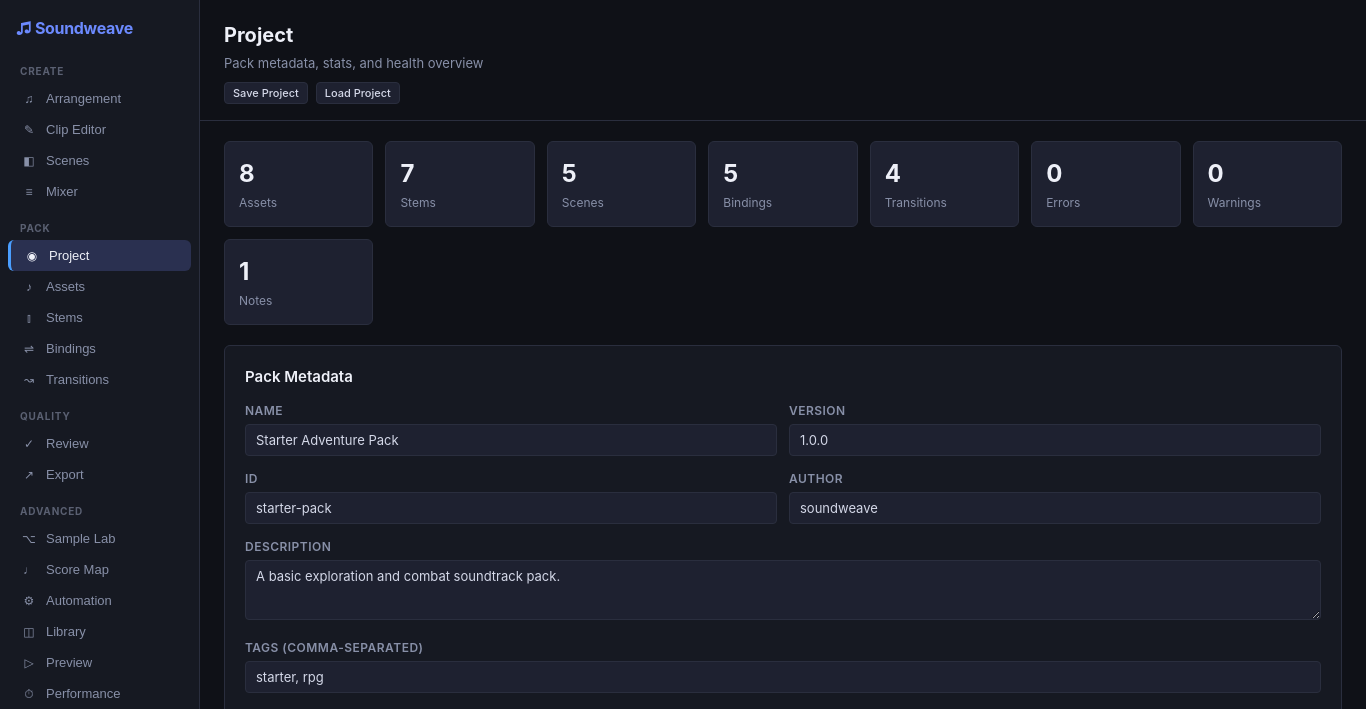
Test: Studio — navigation › switches to stems screen
The width and height of the screenshot is (1366, 709).
Step 1. Click the button "⫾ Stems" → [100, 318], box [8,302,191,333]
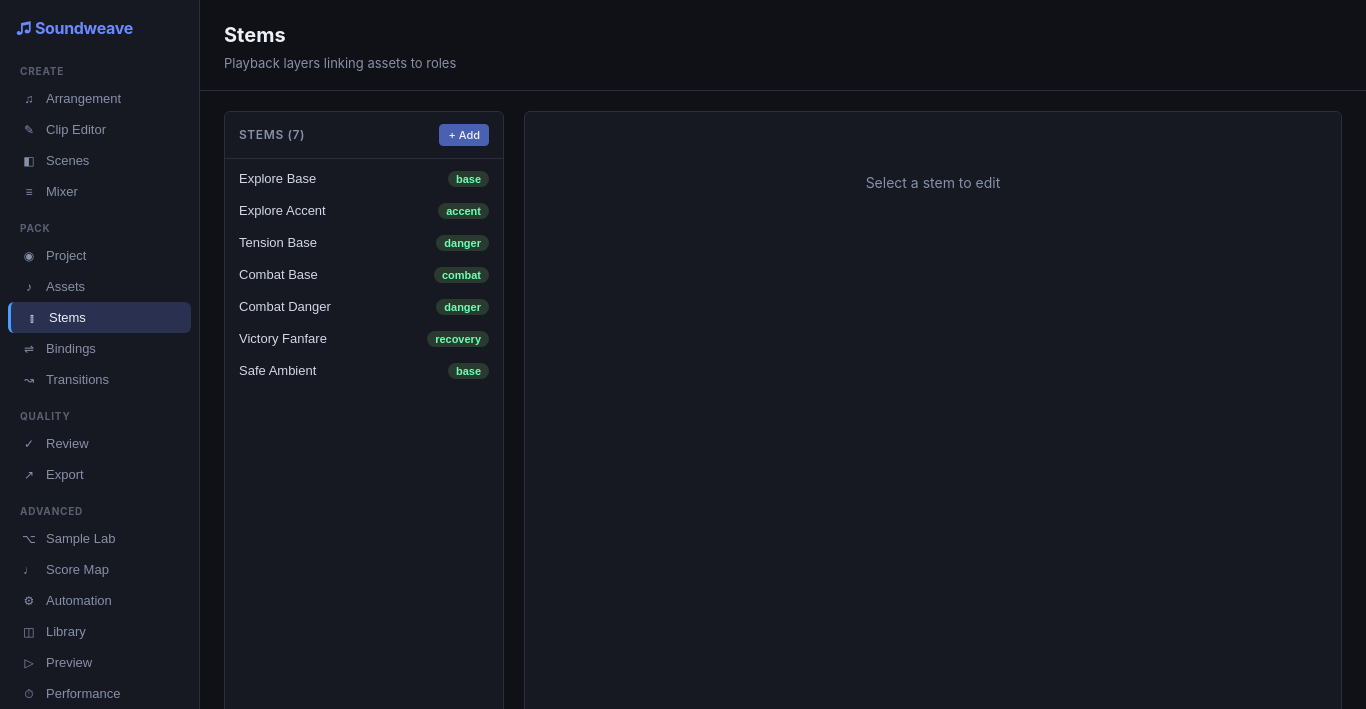
Expected: the text "Stems (7)" is shown, [239,126,305,144]
